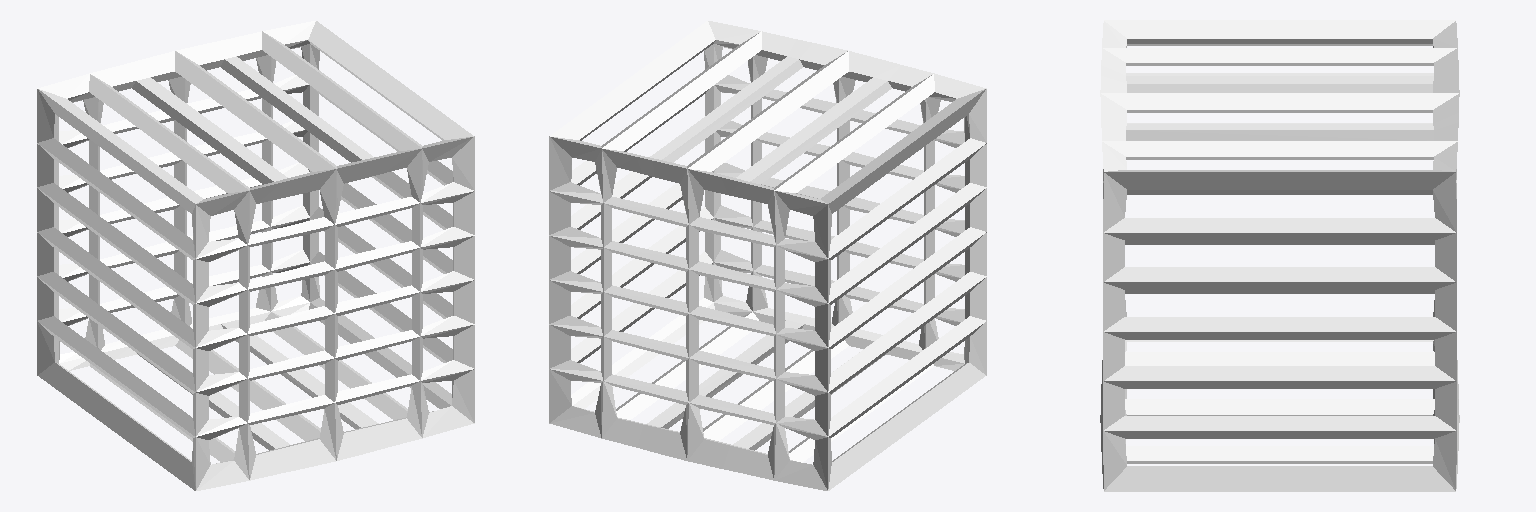
URDF robot description (cube.urdf):
<?xml version="1.0" ?>
<robot name="cube.urdf">
  <link name="baseLink">
    <contact>
    	<friction_anchor/>
    	   <lateral_friction value="0.5"/>
        <rolling_friction value="0.005"/>
        <spinning_friction value="0.005"/>
    </contact>
    <inertial>
      <origin rpy="0 0 0" xyz="0 0 0"/>
       <mass value="1"/>
       <inertia ixx="1" ixy="0" ixz="0" iyy="1.3" iyz="0" izz="0.5"/>
    </inertial>
    <visual>
      <origin rpy="0 0 0" xyz="0 0 0"/>
      <geometry>
				<mesh filename="cage.obj" scale=".1 .1 .1"/>
      </geometry>
       <material name="white">
        <color rgba="1 1 1 1"/>
      </material>
    </visual>
    <collision>
      <origin rpy="0 0 0" xyz="0 0 0"/>
      <geometry>
	 	<box size=".13 .13 .13"/>
      </geometry>
    </collision>
  </link>
</robot>

--- What the picture shows (computed from the rendered views, not written in the file) ---
Views: 3 orthographic renders of the robot side by side, from view 1: azimuth 30°, elevation 25°; view 2: azimuth 150°, elevation 25°; view 3: azimuth 270°, elevation 25°.
Robot: cube.urdf — 1 links, 0 joints (none); root link baseLink; default pose: every joint at zero.
Visible links, largest first — view 1: baseLink; view 2: baseLink; view 3: baseLink.
Boxes of the visible links, box(x1,y1,x2,y2) form: baseLink: box(37, 21, 474, 490); baseLink: box(549, 21, 986, 490); baseLink: box(1100, 20, 1459, 491).
Size in the robot's own frame: 0.15 by 0.15 by 0.15 metres.
1 mesh visuals loaded from 1 distinct referenced files (1 OBJ).
